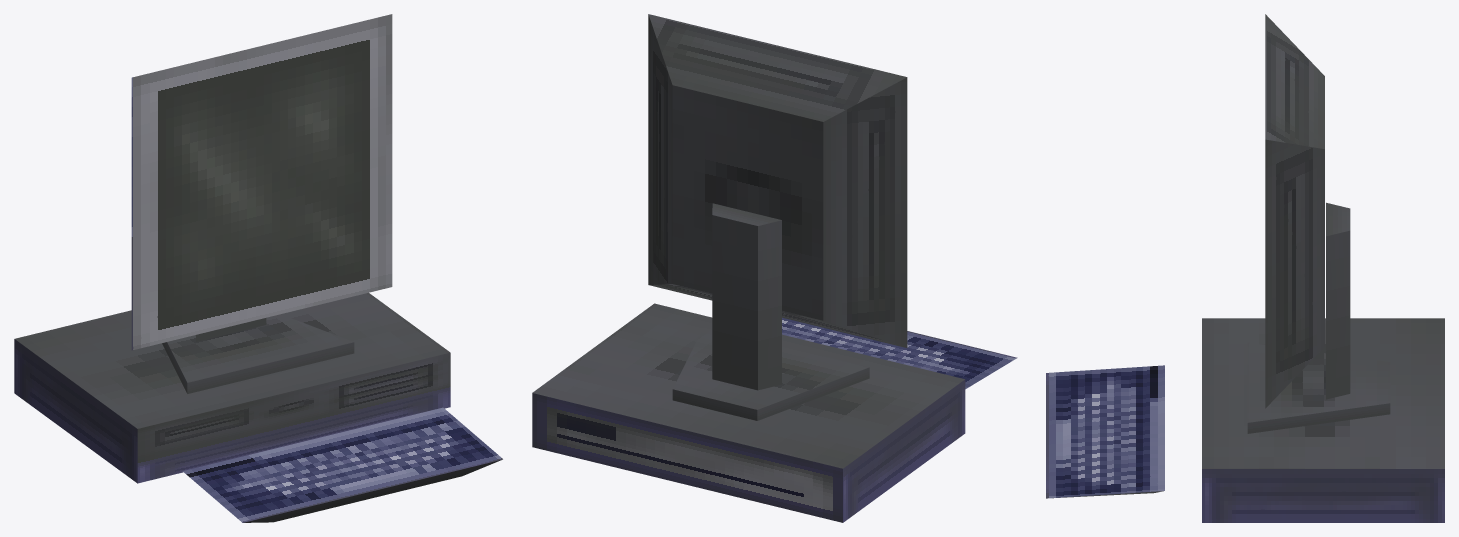
The model's file is sunpc.fbx.
3 views of the same model, side by side, from view 1: azimuth 30°, elevation 25°; view 2: azimuth 150°, elevation 25°; view 3: azimuth 270°, elevation 25° (orthographic).
Parts seen in each view (by area): view 1: sunpc; view 2: sunpc; view 3: sunpc.
Boxes of the visible parts, box(x1,y1,x2,y2) form: sunpc: box(14, 14, 502, 522); sunpc: box(532, 14, 1017, 522); sunpc: box(1046, 14, 1444, 522).
Bounding box in the file's own units: 45.72 × 52.48 × 51.13.
